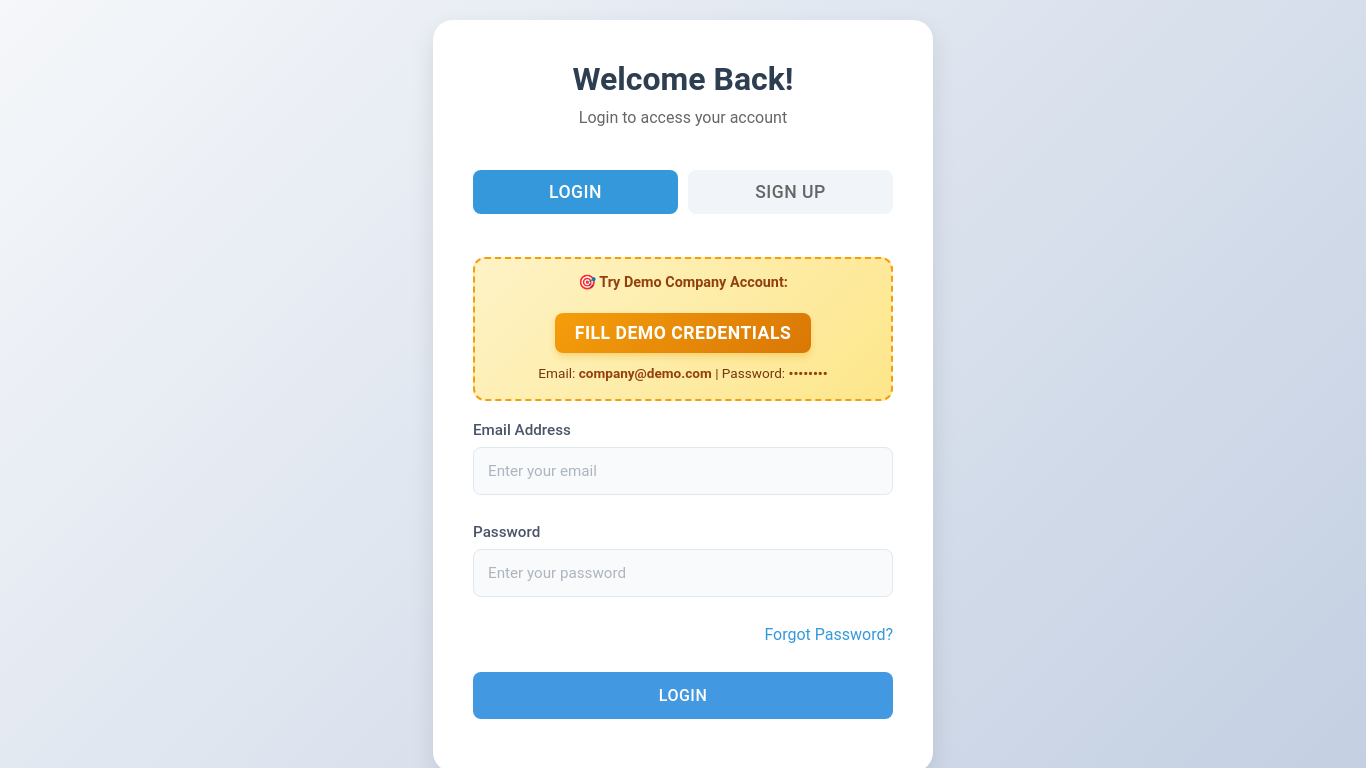
switches to register mode and collects name plus password confirmation
The image size is (1366, 768).
Click the button "Sign Up": (790, 192) [688,170,893,214]
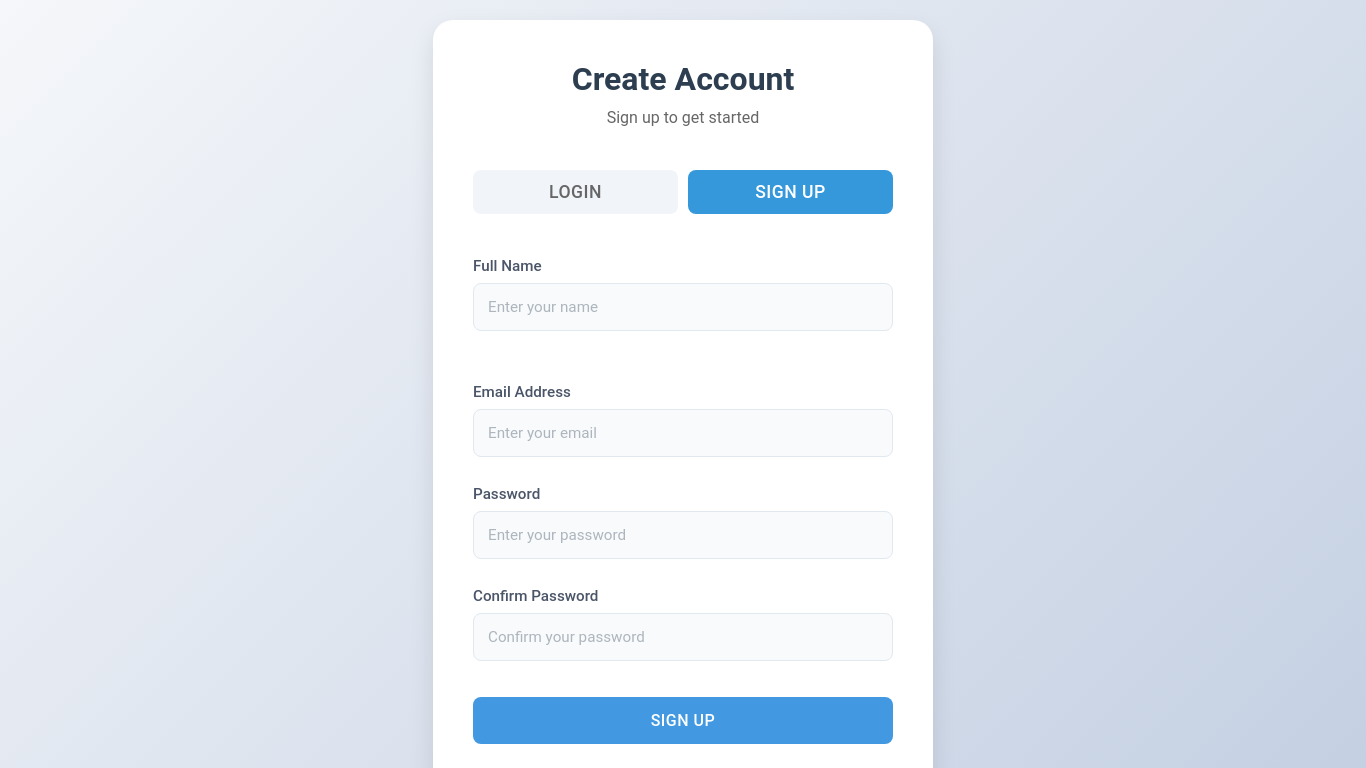
Expected: the heading "Create Account" is shown, [572,60,794,98]
Expected: the field with placeholder "Enter your name" is shown, [473,283,893,331]
Expected: the password field with placeholder "Confirm your password" is shown, [473,613,893,661]
